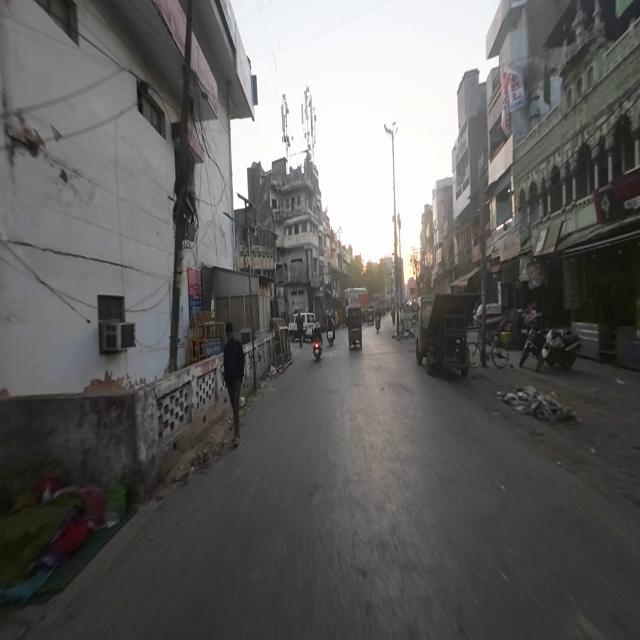Garbage: (498, 382, 578, 428)
